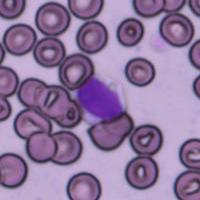L: (72, 72, 127, 124)
